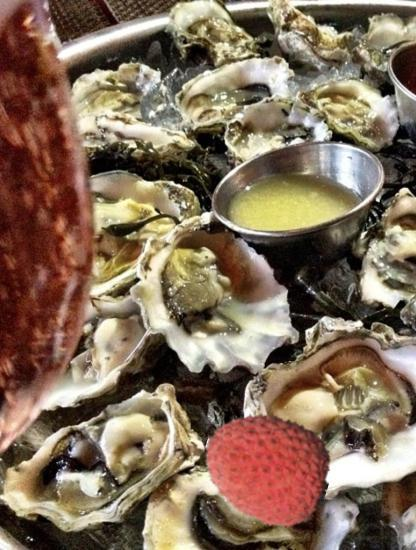Lychee: (202, 403, 331, 532)
